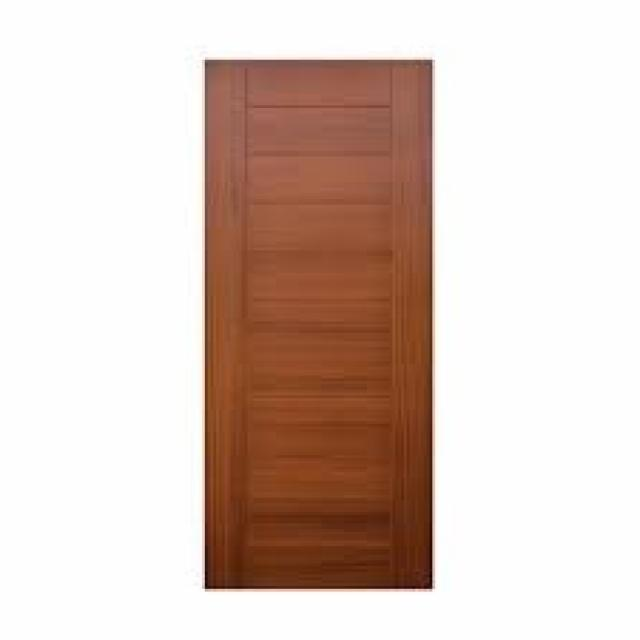door: (203, 59, 434, 590)
